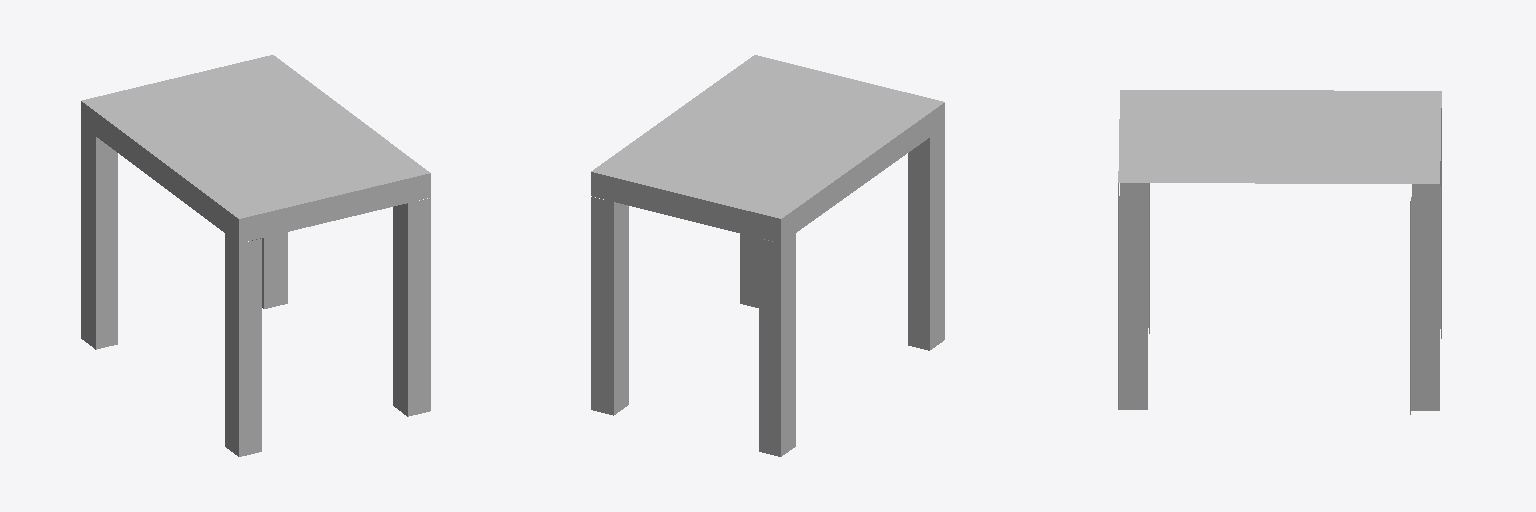
Rendered from jail_Desk.obj.
3 views of the same model, side by side, from view 1: azimuth 30°, elevation 25°; view 2: azimuth 150°, elevation 25°; view 3: azimuth 270°, elevation 25° (orthographic).
Visible parts, largest first — view 1: Cube.008_Cube.010; view 2: Cube.008_Cube.010; view 3: Cube.008_Cube.010.
Part boxes in pixels (x1,y1,x2,y2): Cube.008_Cube.010: (81, 55, 430, 456); Cube.008_Cube.010: (591, 55, 944, 456); Cube.008_Cube.010: (1118, 90, 1441, 414).
Bounding box in the file's own units: 2.03 × 2.38 × 2.93.